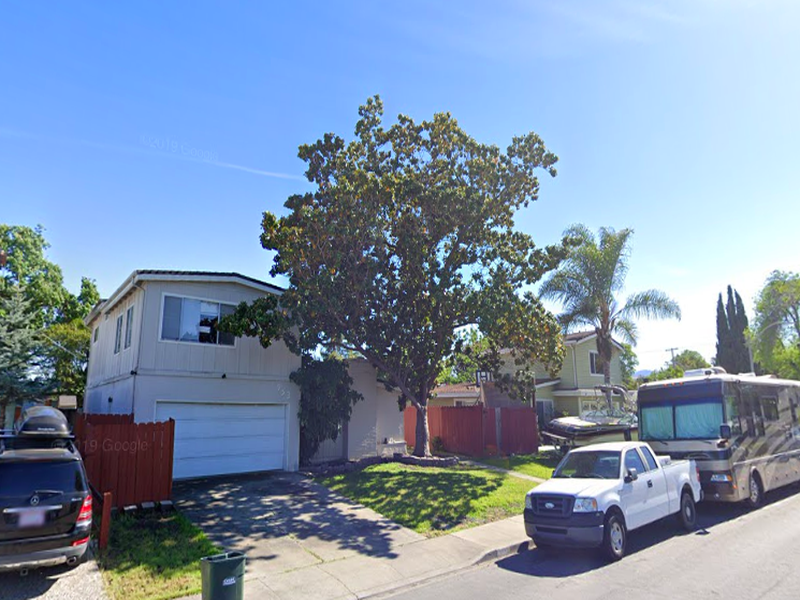tree: (213, 93, 581, 465)
